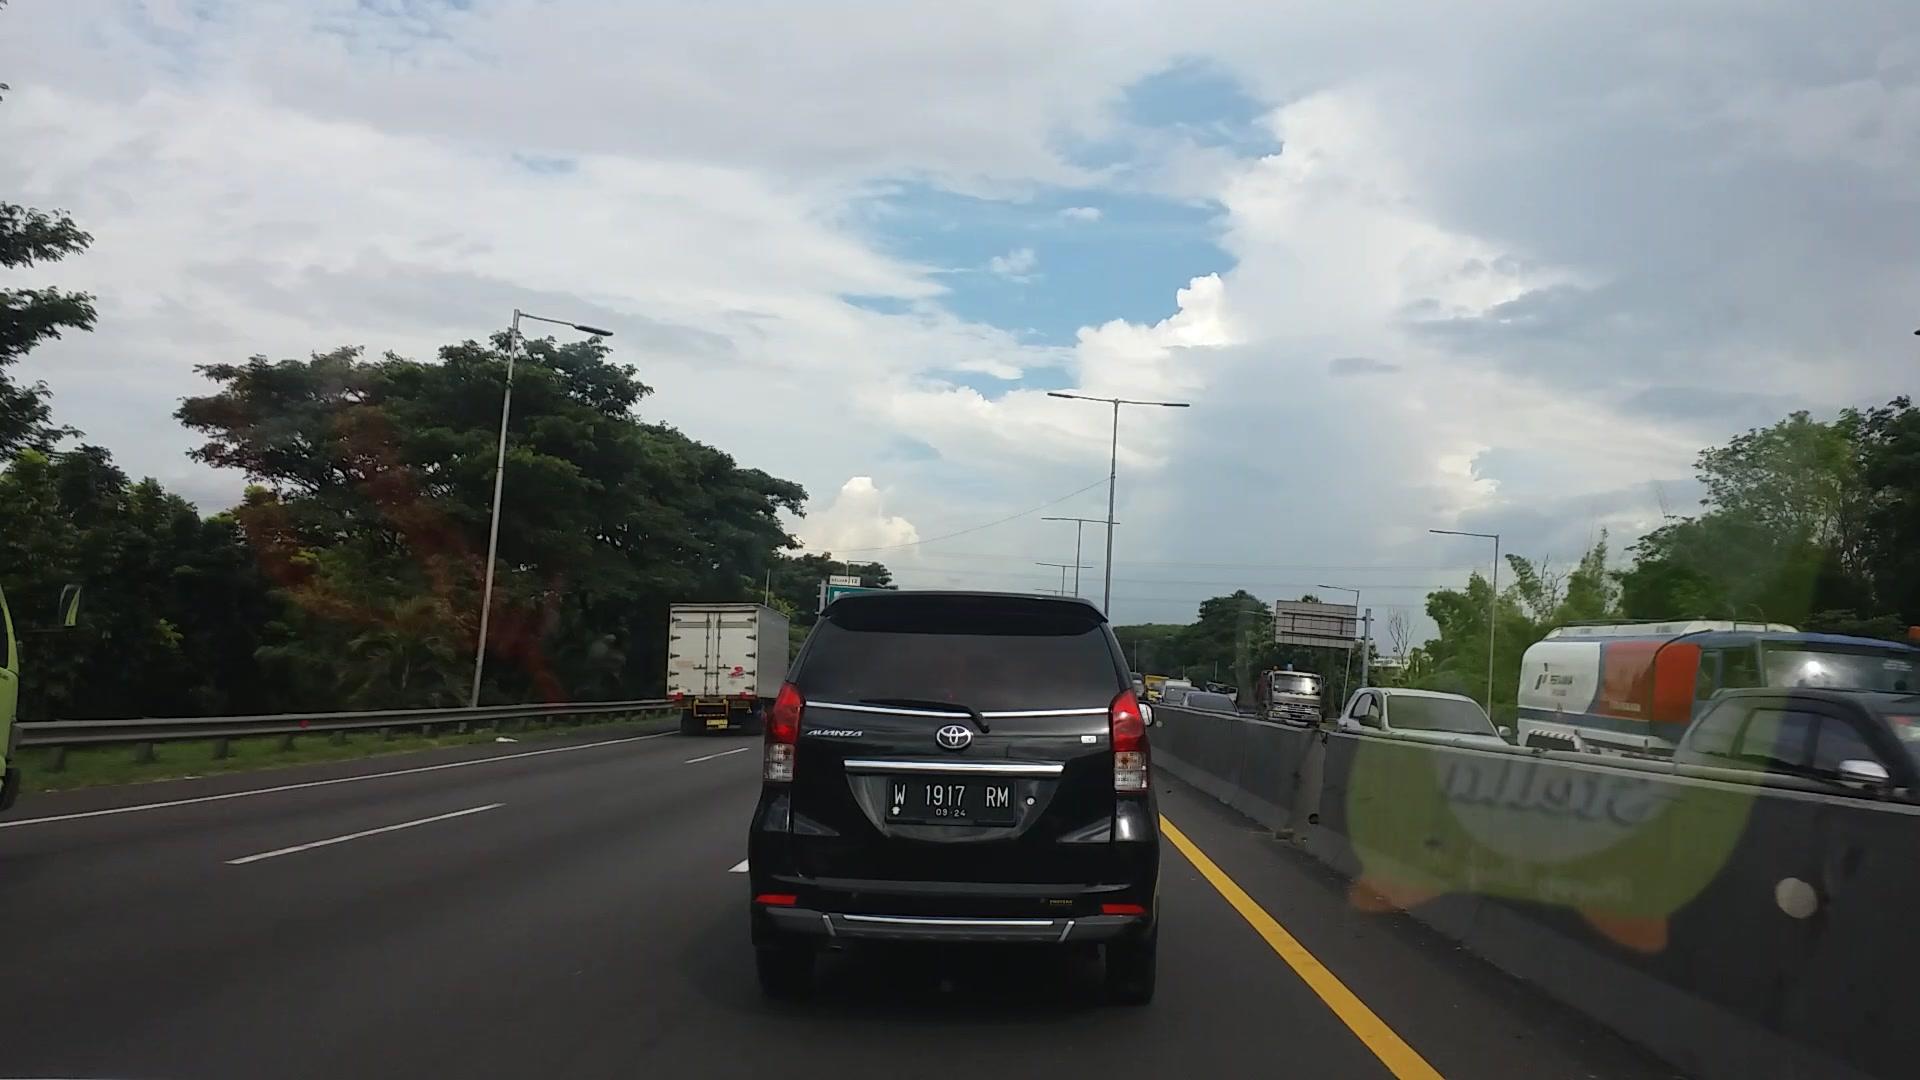plate_positive: (885, 774, 1015, 828)
